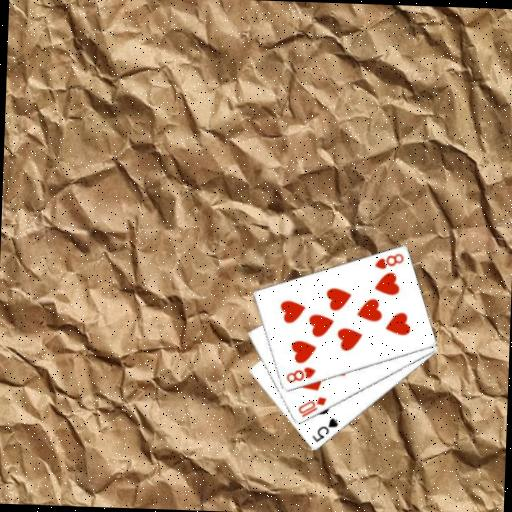10D: (295, 393, 328, 420)
5S: (309, 414, 340, 444)
8H: (282, 363, 317, 385), (371, 249, 405, 271)
